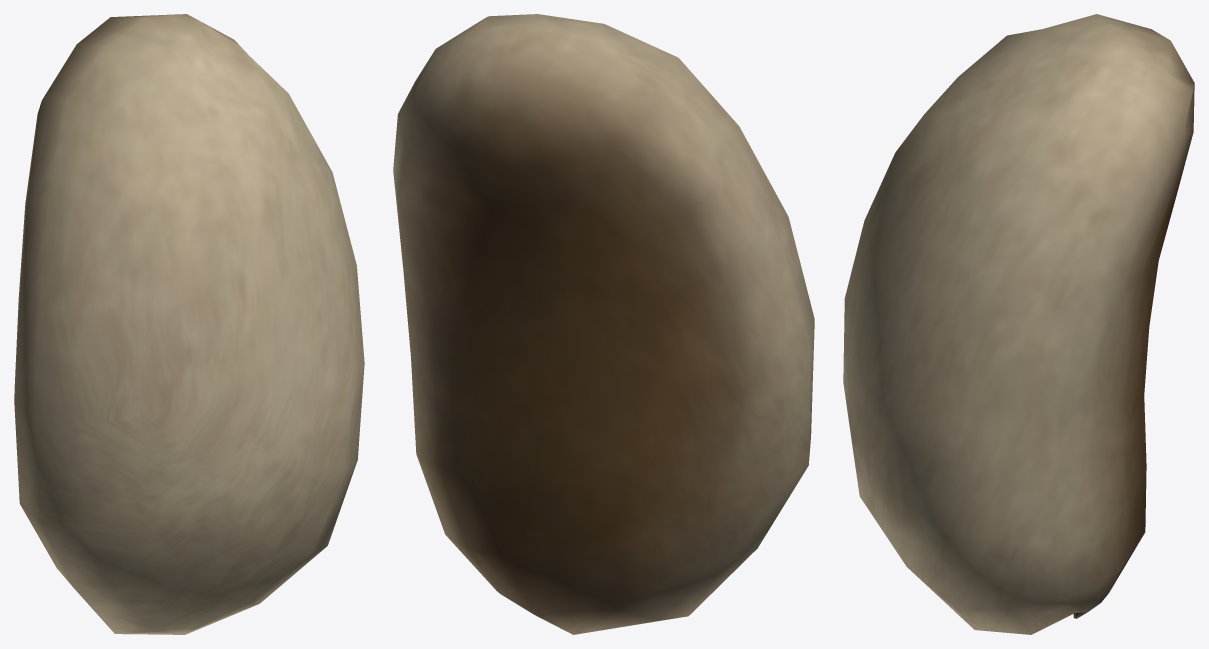
The model's file is Patella.glb.
3 renders of one model, left to right at view 1: azimuth 30°, elevation 25°; view 2: azimuth 150°, elevation 25°; view 3: azimuth 270°, elevation 25°, orthographic. The views are drawn at different scales.
Visible parts, largest first — view 1: Patella_Left1:Group30471; view 2: Patella_Left1:Group30471; view 3: Patella_Left1:Group30471.
Boxes of the visible parts, x1,y1,x2,y2 form: Patella_Left1:Group30471: [14, 14, 364, 634]; Patella_Left1:Group30471: [393, 14, 814, 634]; Patella_Left1:Group30471: [843, 14, 1194, 634].
Size of the model in its own units: 10.06 by 16.8 by 8.86.
Materials: 1 (1 with a texture image).
